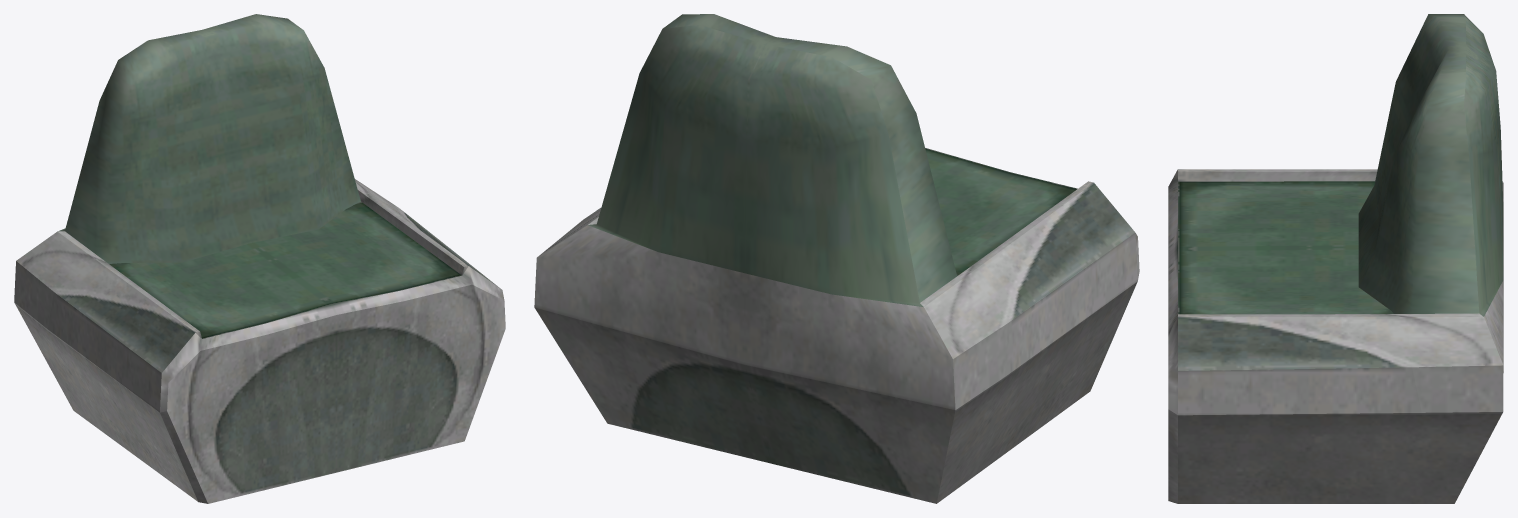
File: frn_jedi_chair_light_s2_l0.fbx
3 views of the same model, side by side, from view 1: azimuth 30°, elevation 25°; view 2: azimuth 150°, elevation 25°; view 3: azimuth 270°, elevation 25° (orthographic). The views are drawn at different scales.
Parts seen in each view (by area): view 1: mesh_node; view 2: mesh_node; view 3: mesh_node.
Boxes of the visible parts, x1,y1,x2,y2 form: mesh_node: [14, 14, 505, 503]; mesh_node: [534, 14, 1139, 503]; mesh_node: [1168, 14, 1503, 503].
Bounding box in the file's own units: 0.9338 × 0.889 × 0.7025.
